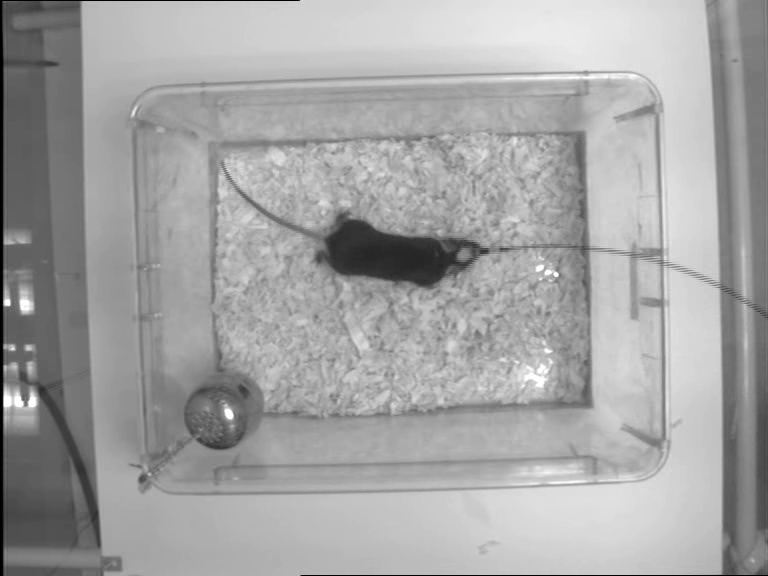mice: (222, 162, 488, 289)
